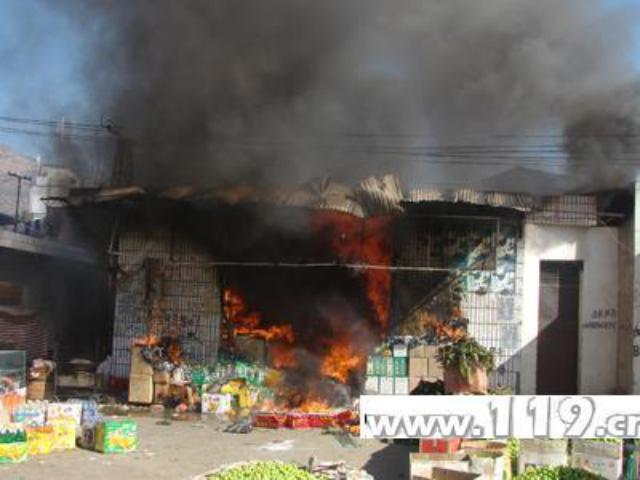fire: (323, 212, 391, 260), (364, 267, 390, 327), (322, 338, 356, 380), (232, 312, 256, 334), (302, 394, 330, 412), (258, 326, 294, 338), (222, 289, 240, 311)
